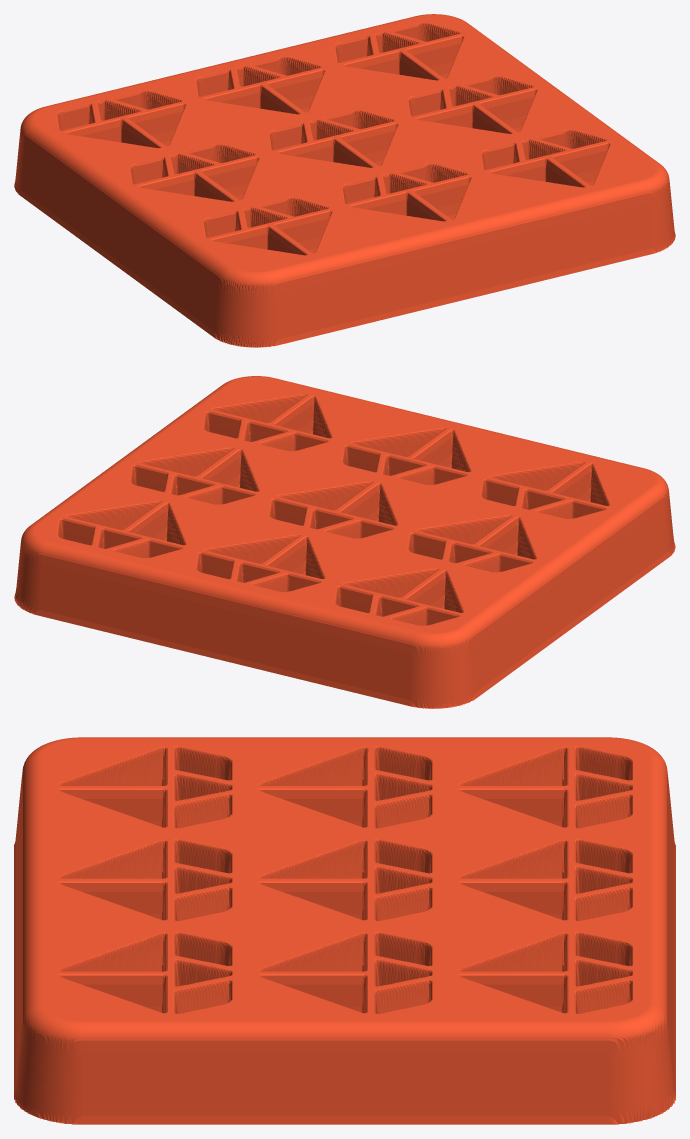
File: mold.glb
The picture shows the model from 3 angles, top to bottom: view 1: azimuth 30°, elevation 25°; view 2: azimuth 150°, elevation 25°; view 3: azimuth 270°, elevation 25°; orthographic projection. The views are drawn at different scales.
Visible parts, largest first — view 1: geometry_0; view 2: geometry_0; view 3: geometry_0.
Boxes of the visible parts, bbox=[...] form: geometry_0: bbox=[14, 14, 675, 347]; geometry_0: bbox=[14, 376, 675, 708]; geometry_0: bbox=[14, 737, 675, 1124].
Bounding box in the file's own units: 0.0964 × 0.0136 × 0.0886.
